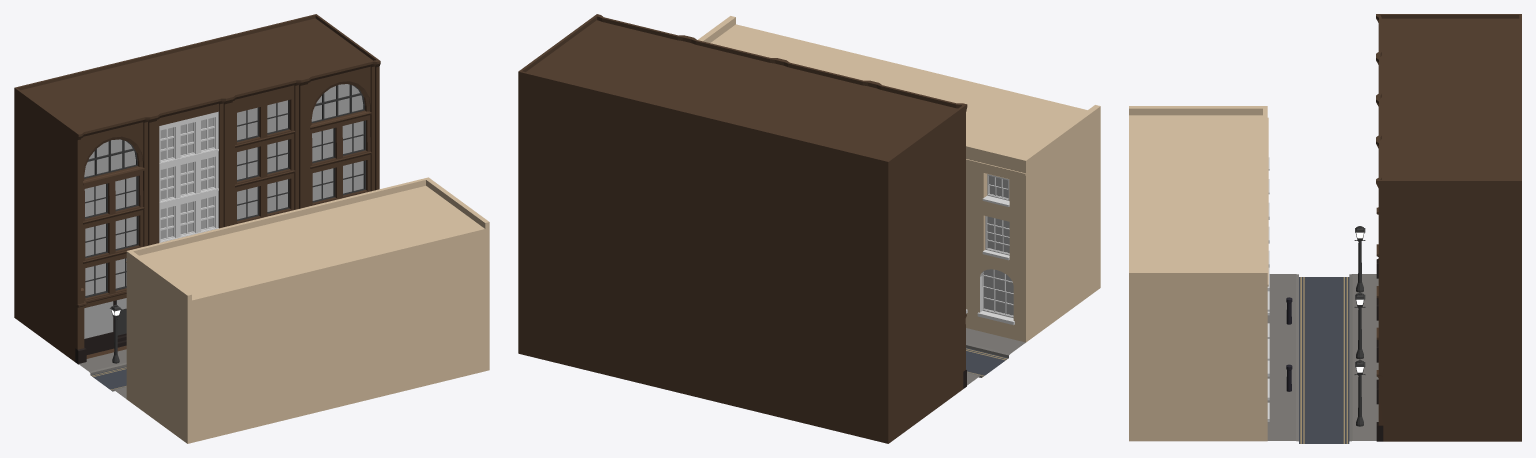
File: alley.glb
3 renders of one model, left to right at view 1: azimuth 30°, elevation 25°; view 2: azimuth 150°, elevation 25°; view 3: azimuth 270°, elevation 25°, orthographic. The views are drawn at different scales.
Visible parts, largest first — view 1: Cube, Building2Body, Cube.041, Cube.018, Cube.039, Cube.040, StraightStreet, Cube.028, Cube.035, Cube.026, Cube.031, Cube.036 (+10 smaller); view 2: Building2Body, Cube, StraightStreet, Cube.006, Cube.009; view 3: Building2Body, Cube, StraightStreet.
Boxes of the visible parts, x1=… form: Cube: x1=126, y1=177, x2=489, y2=443; Building2Body: x1=14, y1=14, x2=380, y2=364; Cube.041: x1=159, y1=111, x2=218, y2=242; Cube.018: x1=84, y1=298, x2=126, y2=354; Cube.039: x1=84, y1=139, x2=137, y2=178; Cube.040: x1=311, y1=84, x2=364, y2=123; StraightStreet: x1=79, y1=349, x2=126, y2=398; Cube.028: x1=115, y1=176, x2=138, y2=211; Cube.035: x1=312, y1=128, x2=335, y2=163; Cube.026: x1=115, y1=216, x2=138, y2=250; Cube.031: x1=312, y1=168, x2=335, y2=202; Cube.036: x1=342, y1=120, x2=365, y2=155; Building2Body: x1=518, y1=14, x2=967, y2=443; Cube: x1=698, y1=16, x2=1100, y2=342; StraightStreet: x1=966, y1=328, x2=1025, y2=385; Cube.006: x1=978, y1=265, x2=1014, y2=320; Cube.009: x1=985, y1=216, x2=1009, y2=255; Building2Body: x1=1376, y1=14, x2=1521, y2=441; Cube: x1=1129, y1=106, x2=1269, y2=441; StraightStreet: x1=1267, y1=274, x2=1378, y2=443.
Size of the model in its own units: 20 by 14.8 by 19.87.
